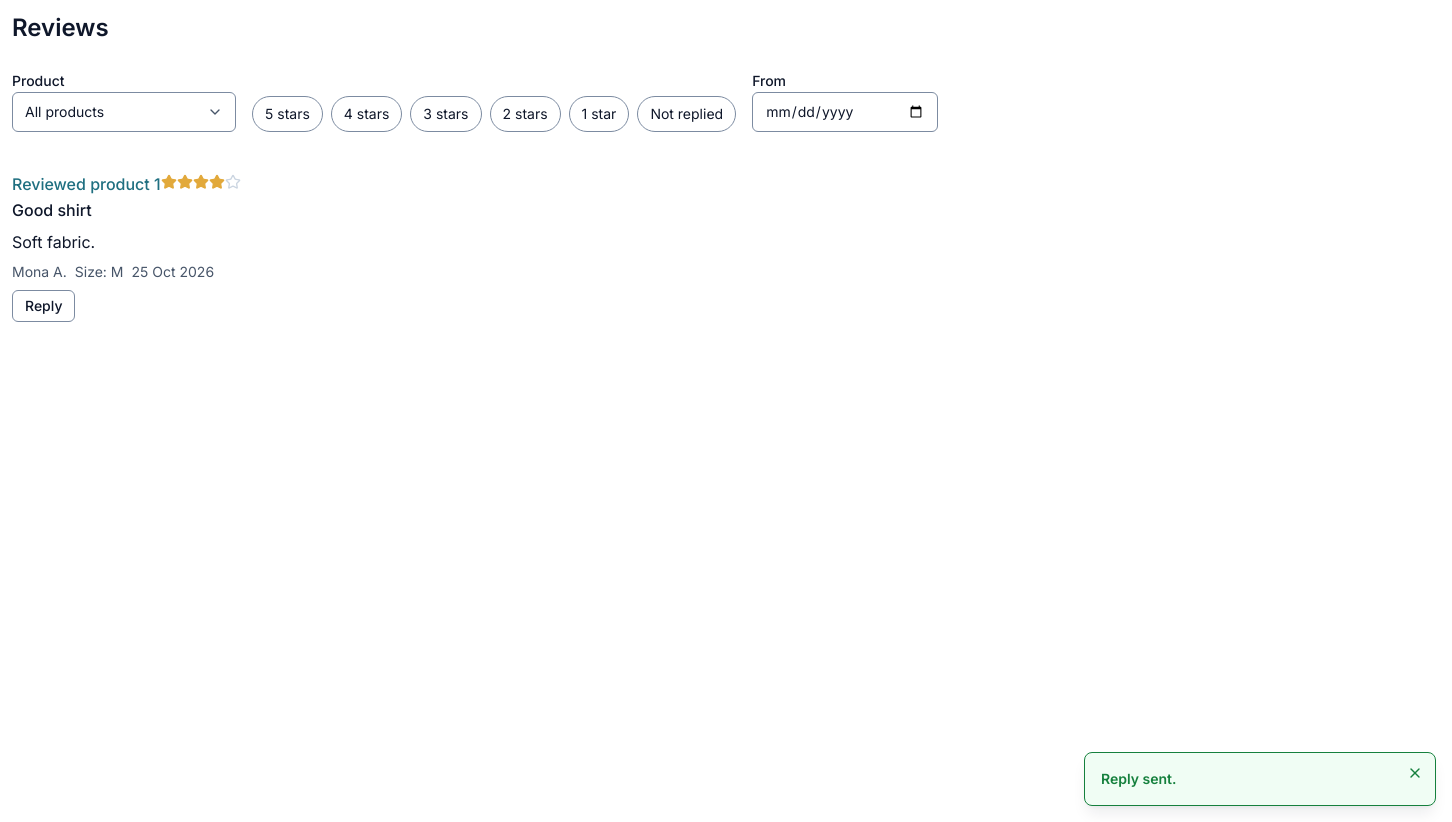
Test: reviews list (spec 02 SE-20) › REVIEW_ALREADY_REPLIED: reads the list again and explains
Click the button with aria-label "Reply to Mona A." at x=44, y=306, box [12, 290, 75, 322]
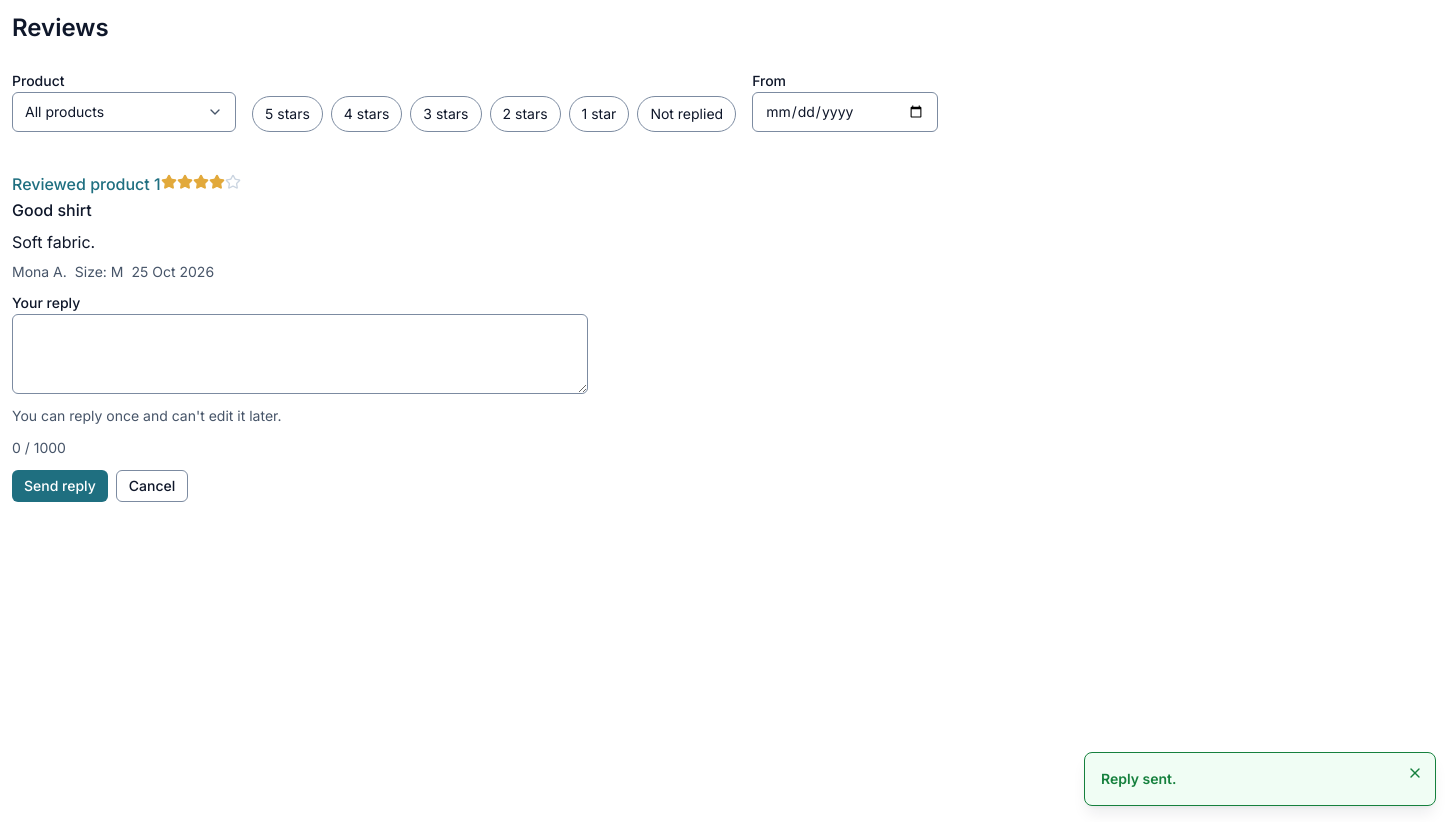
Type "Thanks" into the text box labelled "Your reply" at x=300, y=354, box [12, 314, 588, 394]
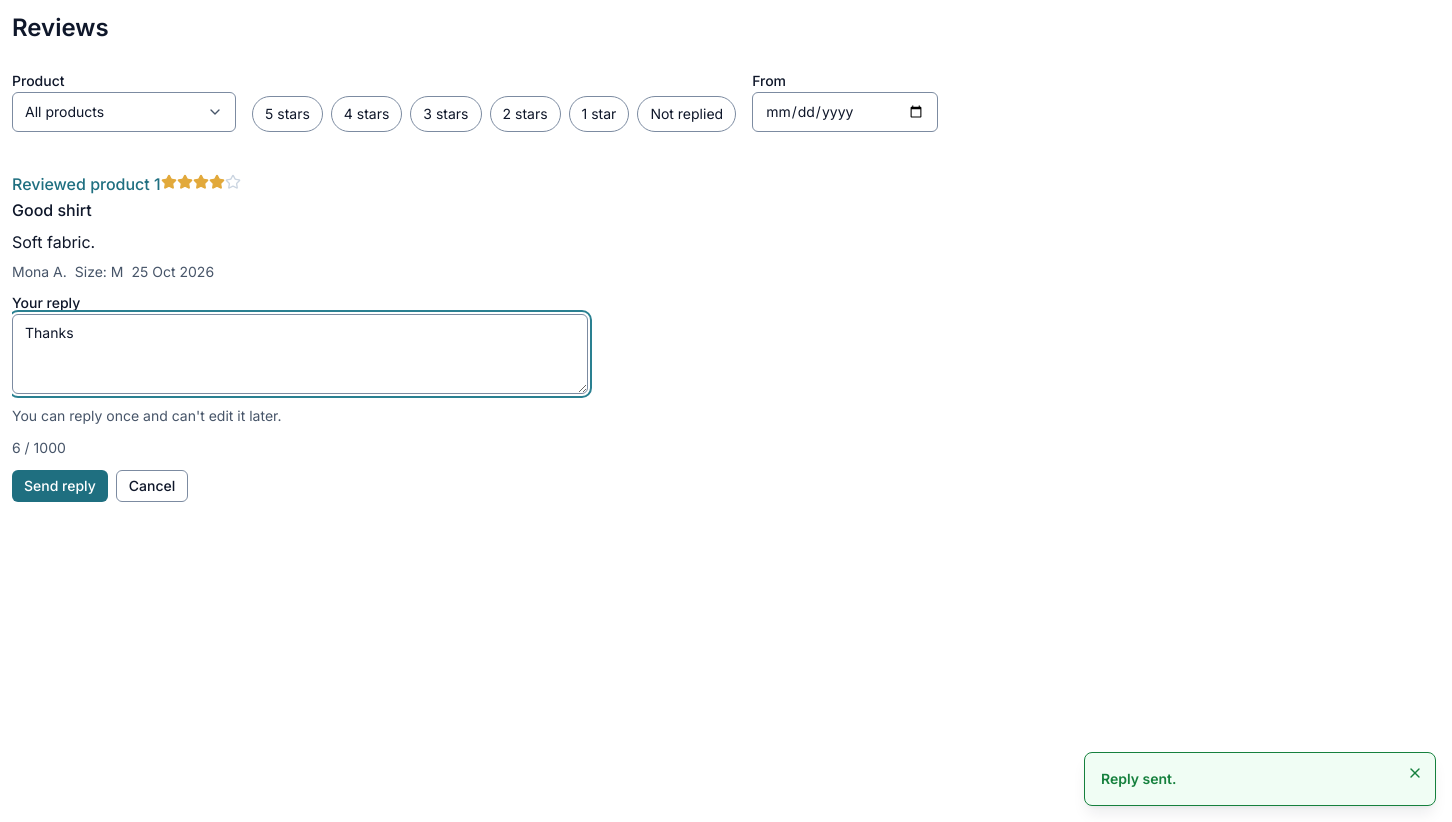
Click the button "Send reply" at x=60, y=486, box [12, 470, 108, 502]
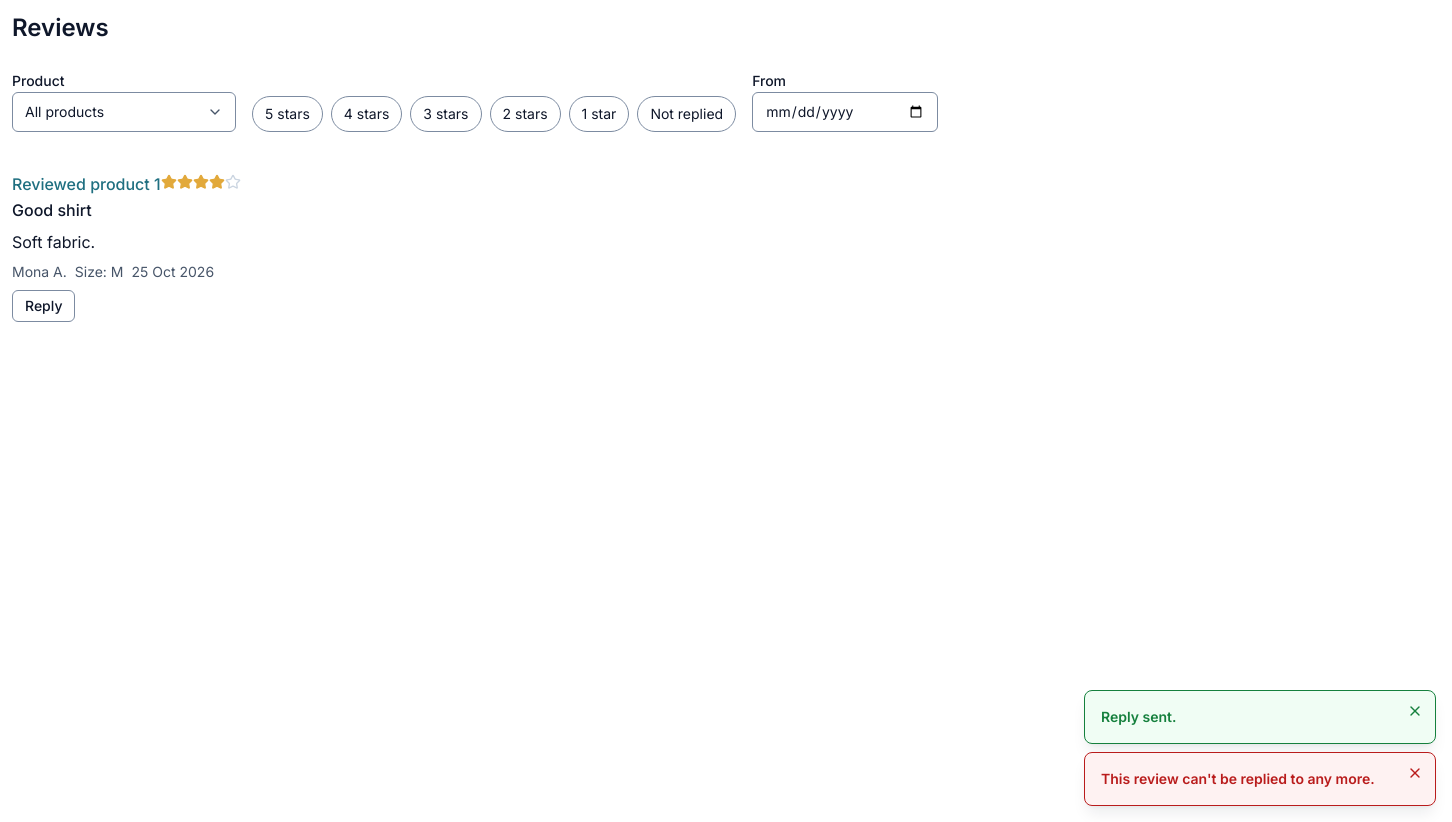
Now the text "This review can't be replied to any more." is shown, box [1101, 769, 1395, 789]
